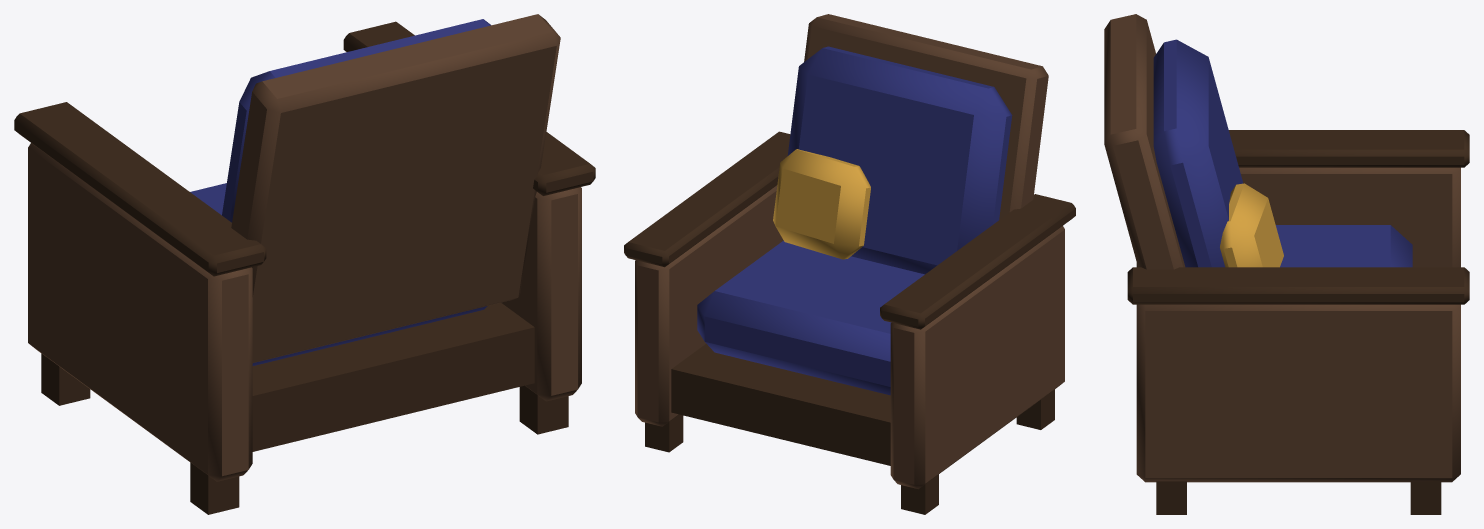
Rendered from reading_chair_v2.glb.
The picture shows the model from 3 angles, left to right: view 1: azimuth 30°, elevation 25°; view 2: azimuth 150°, elevation 25°; view 3: azimuth 270°, elevation 25°; orthographic projection. The views are drawn at different scales.
Visible parts, largest first — view 1: body; view 2: body; view 3: body.
Part boxes in pixels (x1,y1,x2,y2): body: (14,14,595,514); body: (624,14,1075,514); body: (1104,14,1469,514).
Size of the model in its own units: 0.87 by 0.9275 by 0.8335.
